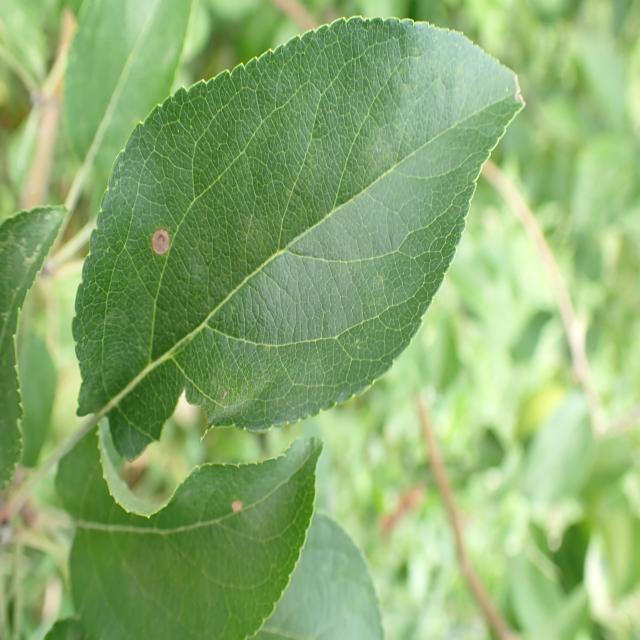Black Rot: (140, 213, 186, 269)
